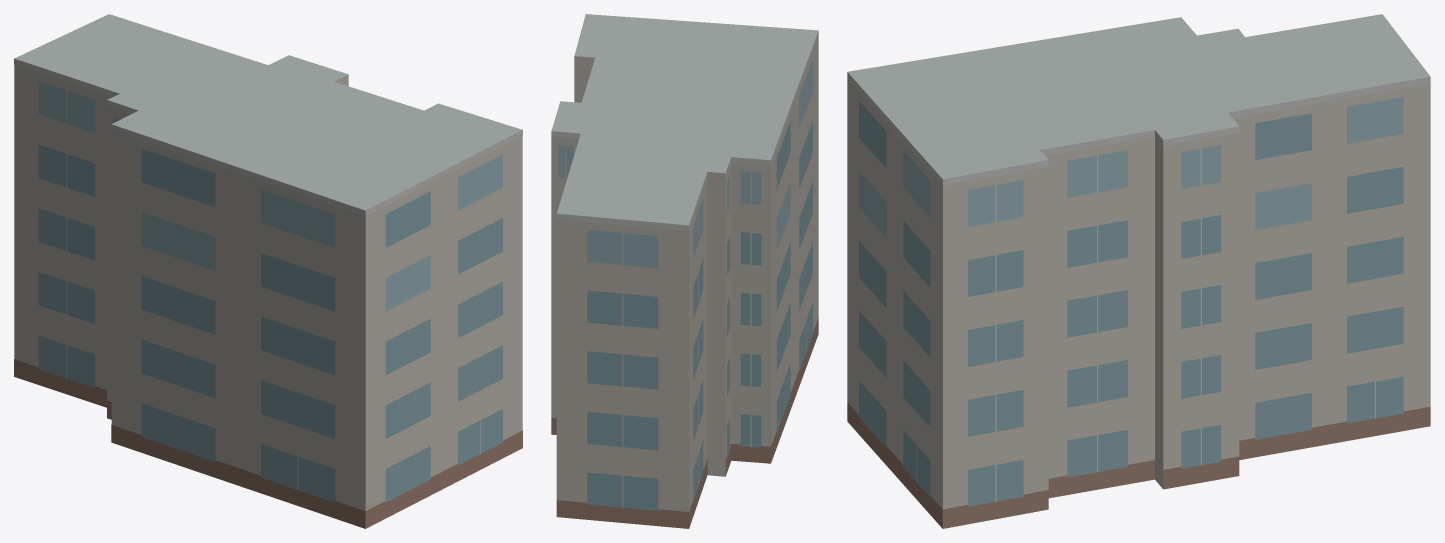
File: survey-upis-32903706.glb
3 views of the same model, side by side, from view 1: azimuth 30°, elevation 25°; view 2: azimuth 150°, elevation 25°; view 3: azimuth 270°, elevation 25° (orthographic). The views are drawn at different scales.
Parts seen in each view (by area): view 1: survey-upis-32903706.tmp; view 2: survey-upis-32903706.tmp; view 3: survey-upis-32903706.tmp.
Boxes of the visible parts, box(x1,y1,x2,y2) form: survey-upis-32903706.tmp: box(14, 14, 522, 528); survey-upis-32903706.tmp: box(551, 14, 818, 528); survey-upis-32903706.tmp: box(847, 14, 1430, 528).
Size of the model in its own units: 13.19 by 13 by 19.67.
